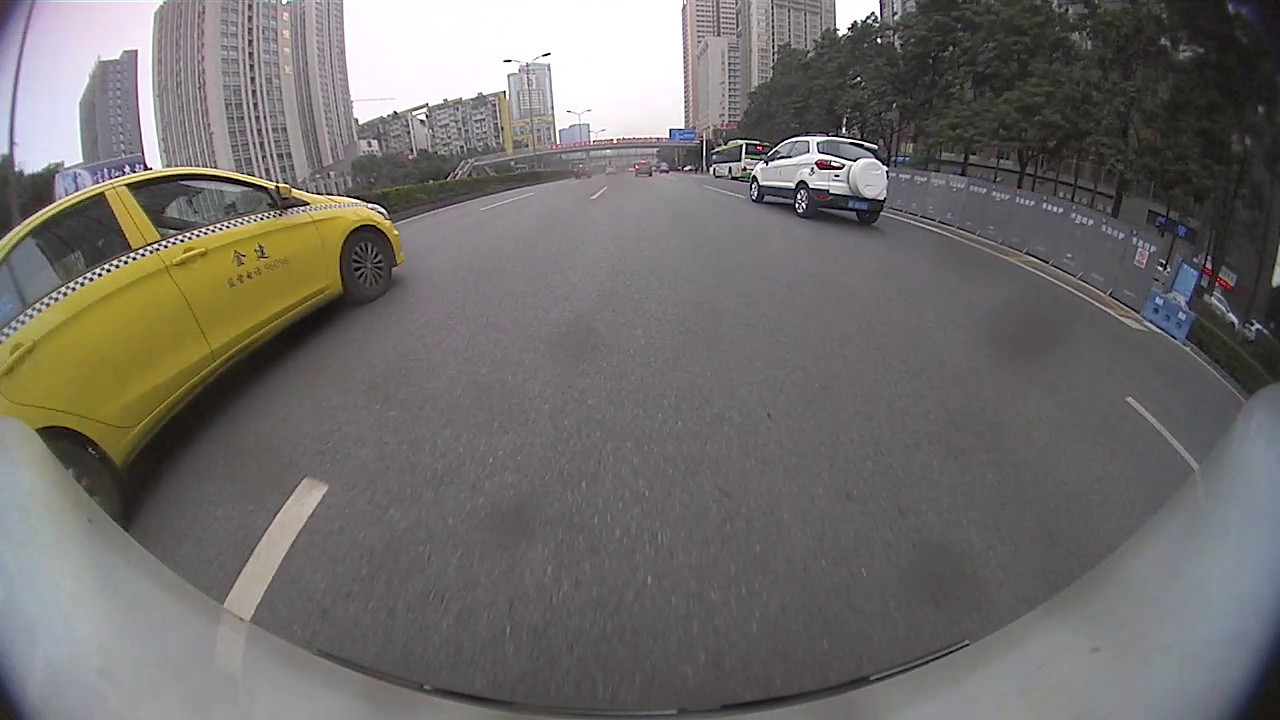bus: (709, 140, 774, 181)
car: (2, 166, 404, 531), (748, 133, 889, 226), (633, 160, 654, 177), (574, 165, 592, 180)
front: (341, 227, 393, 303), (747, 181, 763, 203)
rear: (33, 431, 129, 533), (792, 185, 817, 218)
